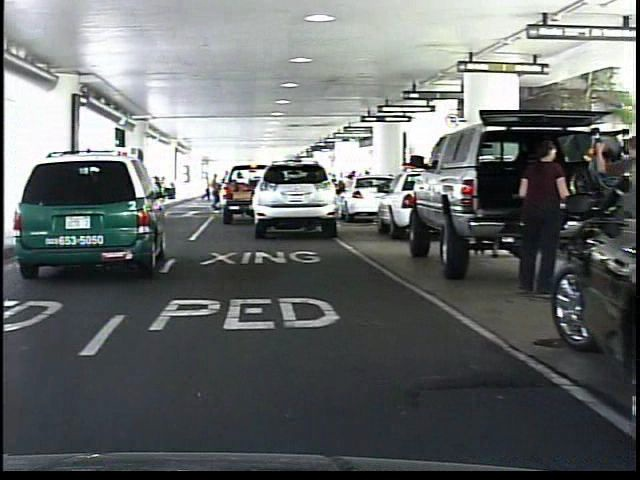person: (504, 139, 570, 303)
